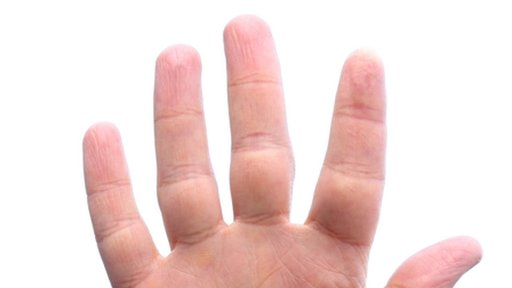finger: (318, 28, 406, 256), (220, 7, 299, 217), (146, 39, 226, 241), (79, 122, 166, 274)
